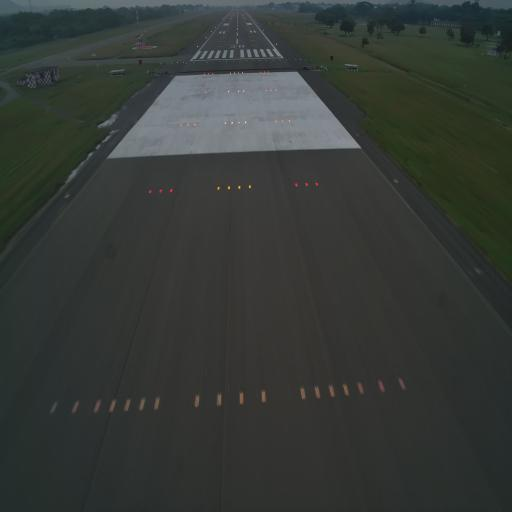off: (49, 397, 59, 421), (472, 262, 485, 280), (390, 172, 400, 186), (62, 188, 71, 202)
on: (324, 379, 338, 403), (340, 375, 351, 405), (297, 383, 309, 410), (354, 378, 368, 400), (257, 385, 268, 411), (72, 394, 83, 419), (192, 389, 202, 413), (152, 396, 163, 416), (396, 374, 408, 392), (377, 378, 387, 398), (234, 392, 246, 408), (93, 397, 104, 414), (313, 382, 322, 402), (215, 389, 223, 411), (138, 398, 147, 415), (109, 397, 117, 416), (125, 396, 131, 414), (158, 186, 164, 196), (169, 186, 175, 196), (148, 187, 153, 197), (314, 178, 319, 188), (226, 185, 232, 193), (294, 180, 299, 189), (237, 182, 241, 193), (248, 182, 253, 190), (305, 180, 309, 190), (216, 185, 220, 192)
